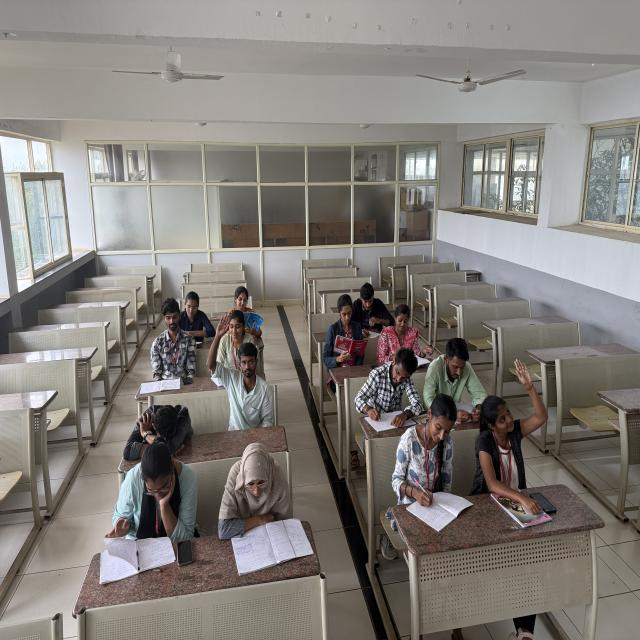Hand Rising: (477, 354, 549, 503), (210, 311, 271, 428)
Reading: (104, 441, 196, 549), (215, 440, 298, 543), (423, 337, 489, 415), (149, 297, 190, 390), (322, 292, 368, 368), (378, 303, 428, 365), (227, 288, 266, 338), (178, 293, 212, 347)
Sleeping: (121, 399, 198, 463)
Writing: (389, 391, 464, 514), (354, 345, 421, 434), (352, 282, 390, 341)
